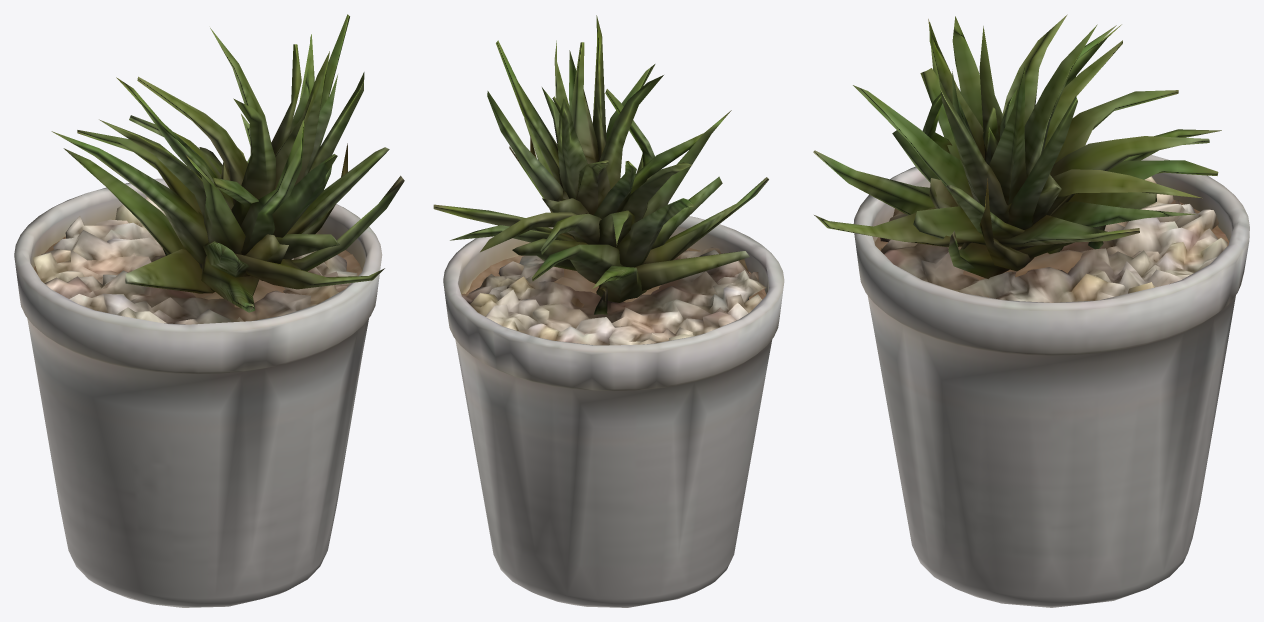
The model's file is th_monstera2.glb.
3 views of the same model, side by side, from view 1: azimuth 30°, elevation 25°; view 2: azimuth 150°, elevation 25°; view 3: azimuth 270°, elevation 25° (orthographic). The views are drawn at different scales.
Parts seen in each view (by area): view 1: potted_plant_04_pot, potted_plant_04_plant, potted_plant_04_ground, potted_plant_04_dirt; view 2: potted_plant_04_pot, potted_plant_04_plant, potted_plant_04_ground, potted_plant_04_dirt; view 3: potted_plant_04_pot, potted_plant_04_plant, potted_plant_04_ground, potted_plant_04_dirt.
Part boxes in pixels (x1=…): potted_plant_04_pot: x1=14, y1=178, x2=382, y2=607; potted_plant_04_plant: x1=51, y1=14, x2=404, y2=312; potted_plant_04_ground: x1=33, y1=197, x2=357, y2=324; potted_plant_04_dirt: x1=34, y1=236, x2=362, y2=307; potted_plant_04_pot: x1=443, y1=216, x2=784, y2=607; potted_plant_04_plant: x1=433, y1=15, x2=768, y2=314; potted_plant_04_ground: x1=462, y1=247, x2=766, y2=345; potted_plant_04_dirt: x1=461, y1=248, x2=766, y2=307; potted_plant_04_pot: x1=853, y1=144, x2=1249, y2=607; potted_plant_04_plant: x1=813, y1=14, x2=1221, y2=278; potted_plant_04_ground: x1=880, y1=176, x2=1227, y2=302; potted_plant_04_dirt: x1=874, y1=200, x2=1228, y2=297.
Bounding box in the file's own units: 0.1672 × 0.2672 × 0.184.
1 material, 1 textured.
